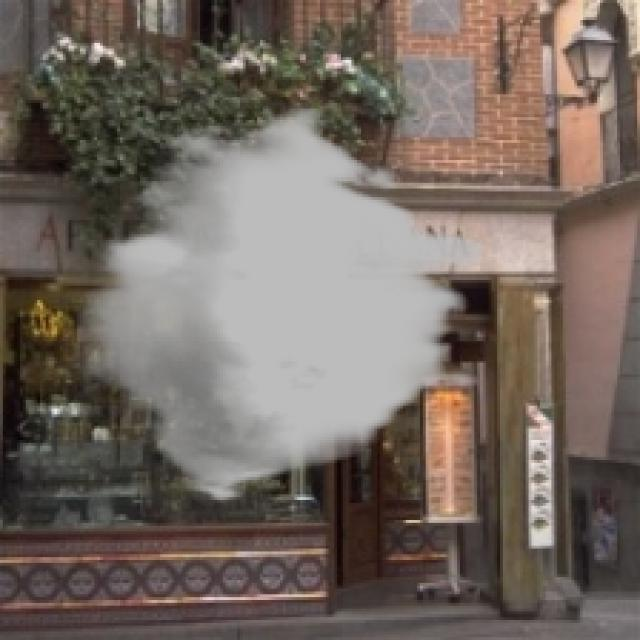Smoke: (77, 106, 483, 503)
